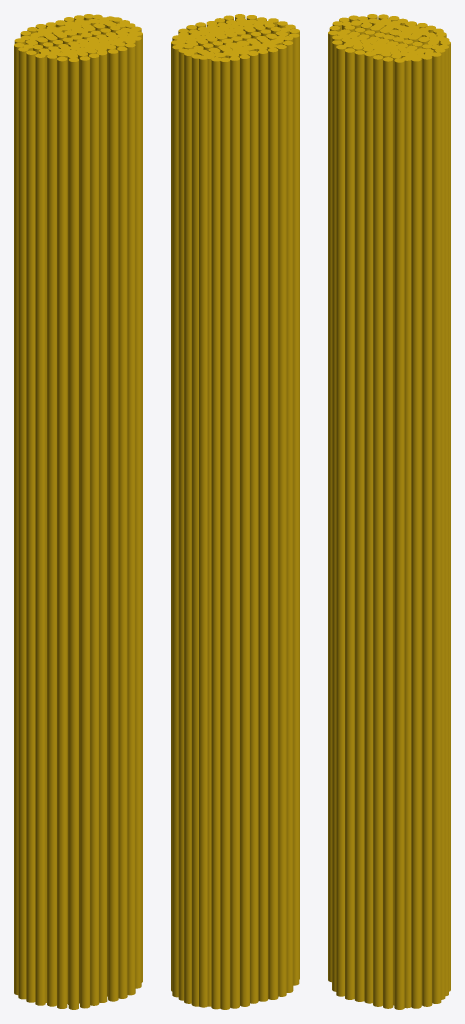
The model's file is spaghetti_uncooked.fbx.
The picture shows the model from 3 angles, left to right: view 1: azimuth 30°, elevation 25°; view 2: azimuth 210°, elevation 25°; view 3: azimuth 330°, elevation 25°; orthographic projection.
Parts seen in each view (by area): view 1: Cylinder.170; view 2: Cylinder.170; view 3: Cylinder.170.
Part boxes in pixels (bbox=[...]): Cylinder.170: bbox=[14, 14, 142, 1009]; Cylinder.170: bbox=[171, 14, 299, 1009]; Cylinder.170: bbox=[328, 14, 450, 1009].
Bounding box in the file's own units: 12.67 × 100 × 9.44.
Materials: 172 (172 with a texture image).
